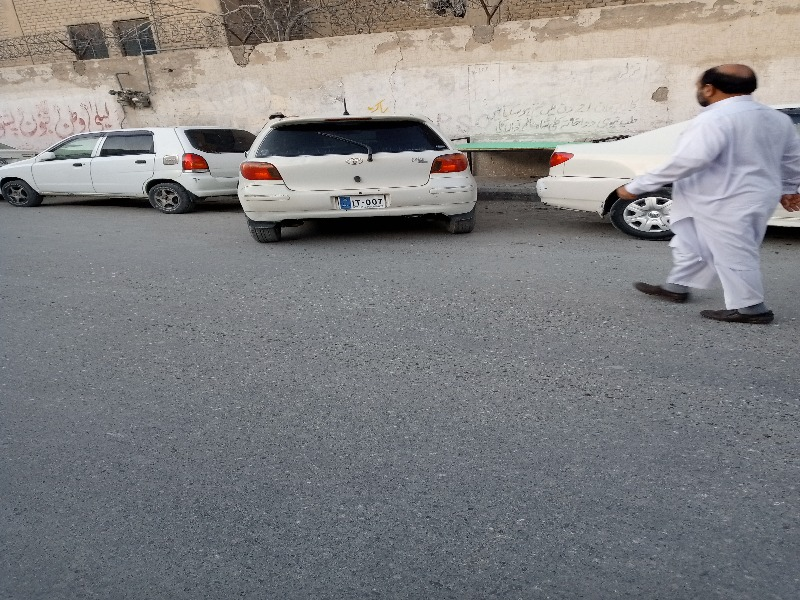License Plate: (336, 190, 388, 214)
